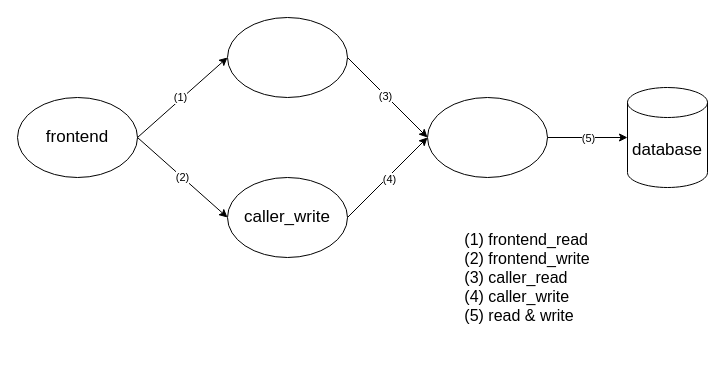
This 725x365 diagram has some shape labels left out. Here are the shapes that lost their labels. From the top down, the box of each, then its label:
(226, 16, 348, 98): caller_read
(426, 96, 548, 178): callee
